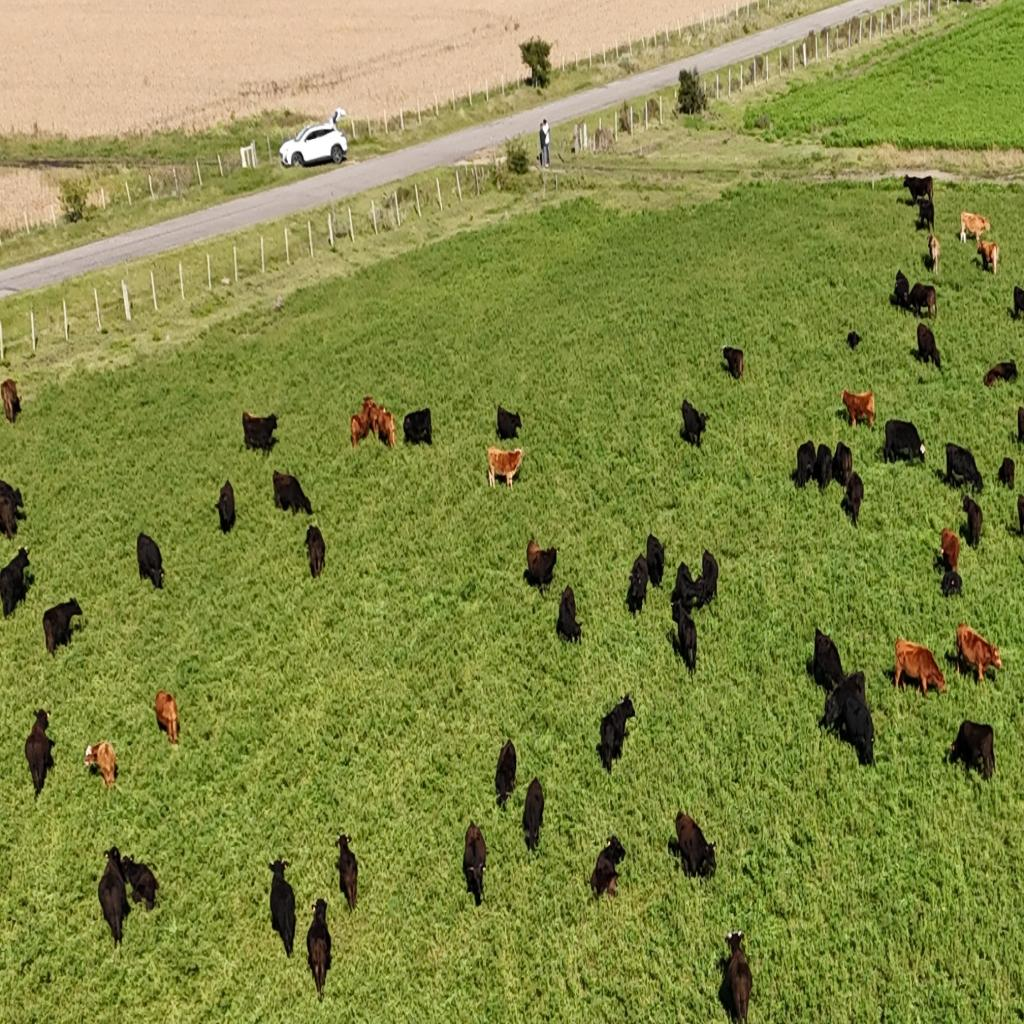cow: (658, 810, 728, 888), (96, 846, 130, 951), (0, 542, 43, 620), (813, 629, 863, 694), (819, 672, 868, 736), (948, 718, 996, 783), (895, 638, 947, 698), (267, 858, 297, 960), (673, 391, 720, 456), (590, 816, 625, 902), (722, 930, 754, 1024), (956, 624, 1003, 688), (23, 707, 54, 798), (306, 900, 332, 1004), (842, 691, 876, 768), (42, 598, 83, 657), (121, 852, 160, 911), (600, 695, 635, 755), (464, 823, 488, 908), (945, 444, 984, 494), (335, 832, 359, 911), (672, 599, 697, 673), (884, 419, 926, 463), (272, 471, 312, 517), (522, 776, 545, 852), (136, 529, 165, 589), (494, 738, 518, 809), (83, 741, 117, 791), (486, 445, 523, 488), (242, 410, 278, 454), (670, 561, 698, 617), (526, 544, 557, 592), (153, 690, 180, 745), (842, 388, 876, 428), (626, 556, 648, 615), (214, 479, 236, 534), (844, 470, 864, 528), (917, 324, 942, 370), (402, 409, 432, 447), (306, 524, 326, 580), (646, 532, 664, 590), (700, 549, 718, 605), (0, 488, 19, 540), (796, 440, 816, 488), (813, 443, 833, 491), (912, 284, 937, 321), (832, 441, 852, 487), (965, 496, 982, 550), (1, 380, 21, 425), (903, 174, 932, 205), (960, 211, 990, 240), (498, 407, 522, 440), (978, 238, 1000, 274), (28, 706, 52, 738), (559, 614, 583, 646), (722, 346, 744, 380), (350, 413, 371, 448), (376, 406, 394, 446), (987, 361, 1018, 384), (1008, 492, 1023, 538), (940, 568, 963, 598), (998, 456, 1016, 490), (940, 540, 958, 574), (526, 538, 542, 576), (892, 289, 914, 316), (915, 202, 932, 232), (894, 269, 910, 298), (930, 232, 941, 274), (984, 367, 999, 387), (847, 330, 862, 350), (1017, 284, 1024, 320), (1019, 407, 1024, 446)
